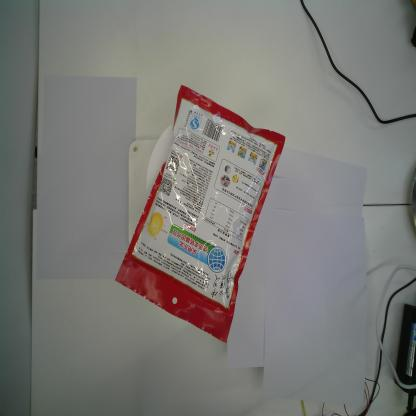Instant Drink: (114, 82, 287, 347)
